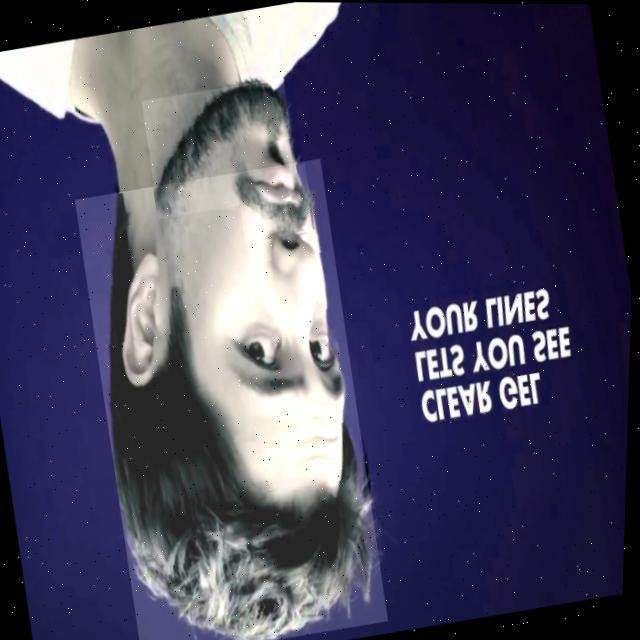beard: (157, 81, 291, 216), (238, 172, 312, 232)
hair: (112, 191, 380, 640)
